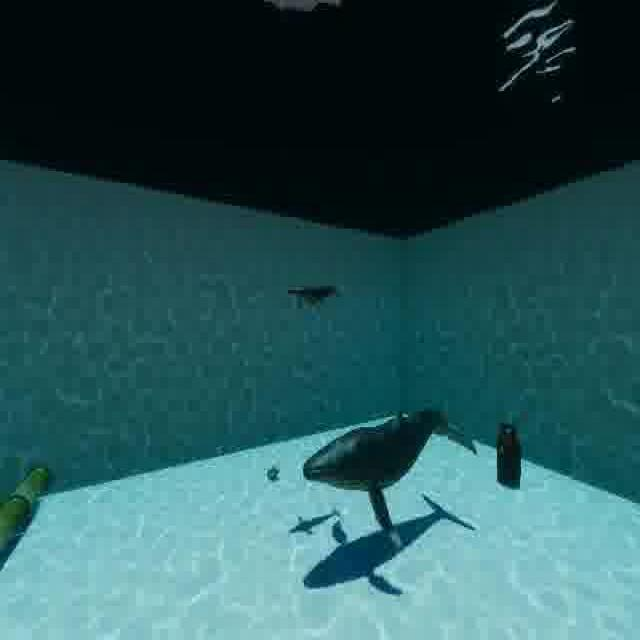Cylinder: (495, 408, 526, 506)
Pipe: (0, 443, 57, 580)
Shell: (260, 452, 282, 491)
Whale: (296, 393, 488, 558), (284, 272, 349, 320)
